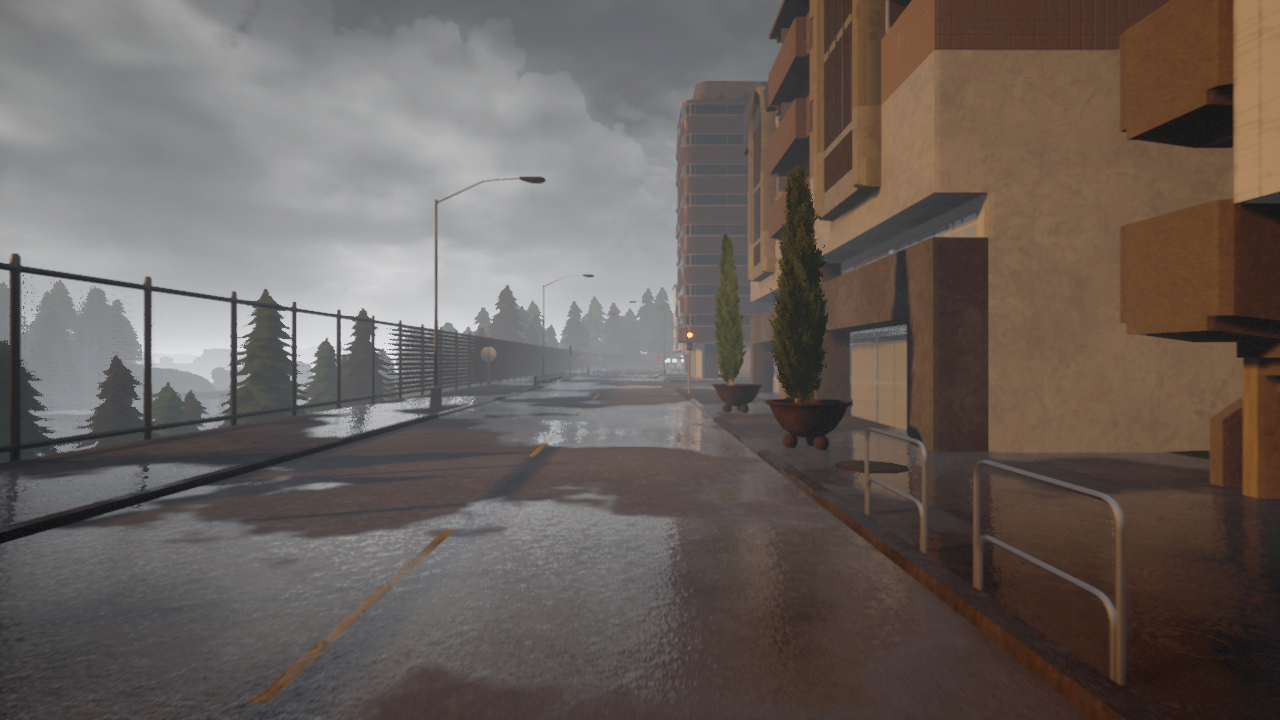red: (686, 330, 692, 351)
